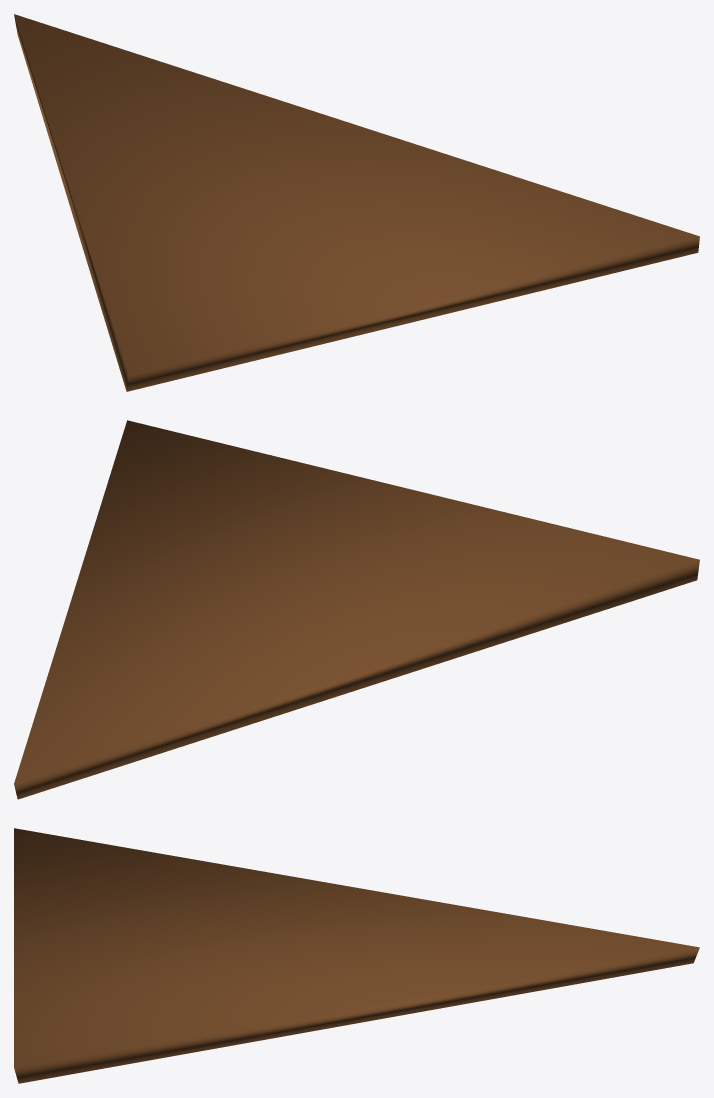
File: sl45_splitLogFloorTri2LowContent.glb
The picture shows the model from 3 angles, top to bottom: view 1: azimuth 30°, elevation 25°; view 2: azimuth 150°, elevation 25°; view 3: azimuth 270°, elevation 25°; orthographic projection. The views are drawn at different scales.
Visible parts, largest first — view 1: shadowVolume; view 2: shadowVolume; view 3: shadowVolume.
Boxes of the visible parts, x1,y1,x2,y2 form: shadowVolume: [14, 14, 699, 391]; shadowVolume: [14, 420, 699, 799]; shadowVolume: [14, 828, 699, 1083].
Size of the model in its own units: 3.07 by 0.0962 by 3.72.
